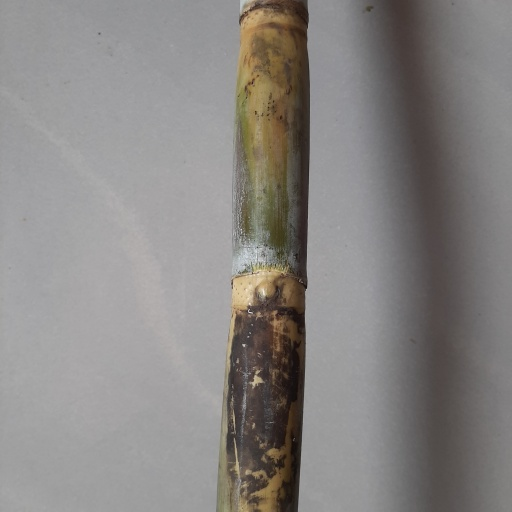Bud: (253, 278, 280, 308)
